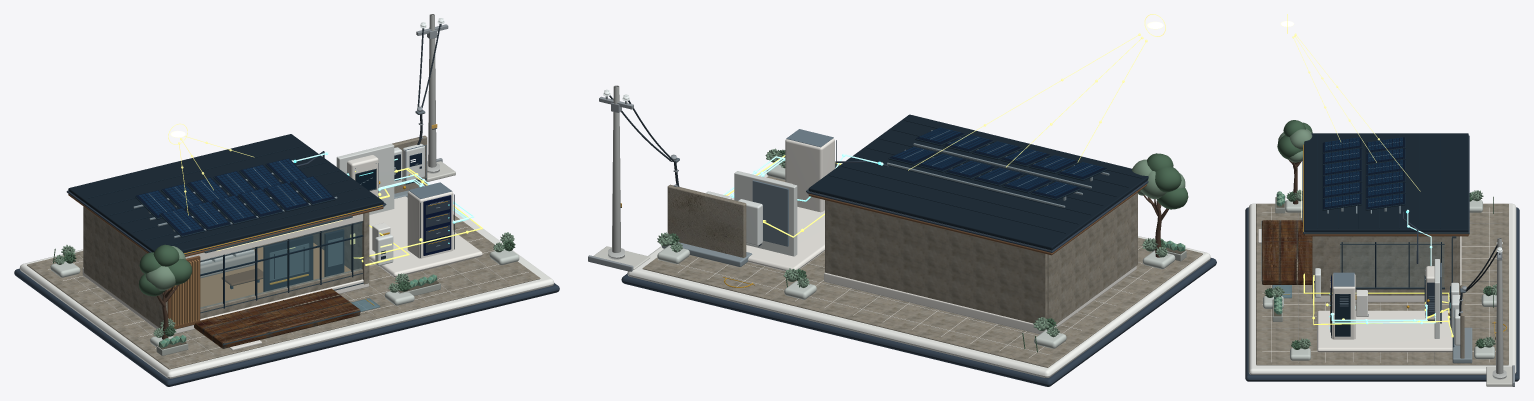
The model's file is pts-technical-v05.glb.
3 renders of one model, left to right at view 1: azimuth 30°, elevation 25°; view 2: azimuth 150°, elevation 25°; view 3: azimuth 270°, elevation 25°, orthographic. The views are drawn at different scales.
Visible parts, largest first — view 1: ROOF / Standing Seam Zinc, STAGE / Landscape Field, HOUSE / Front Glazing, STAGE / Architectural Limestone, LANDSCAPE / Floating Terrace, STAGE / Deep Shadow Layer, HOUSE / Left Structural Wall, TECH / Limestone Service Pod, ROOM / Priority load separation panel, LANDSCAPE_TREE / West courtyard specimen canopy, INTERIOR / White Oak Floor, HOUSE / Front Low Solid (+28 smaller); view 2: ROOF / Standing Seam Zinc, HOUSE / Rear Structural Wall, STAGE / Landscape Field, STAGE / Architectural Limestone, HOUSE / Left Structural Wall, STAGE / Deep Shadow Layer, UTILITY_SERVICE / Masonry service backing, HOUSE / Main Limestone Floor, BATTERY / Ceramic Storage Tower, TECH / Limestone Service Pod, LANDSCAPE_TREE / West courtyard specimen canopy, DETAIL / Inverter wall standoff plate (+8 smaller); view 3: STAGE / Landscape Field, ROOF / Standing Seam Zinc, HOUSE / Right Structural Wall, STAGE / Architectural Limestone, TECH / Limestone Service Pod, HOUSE / Right Window, LANDSCAPE / Floating Terrace, STAGE / Deep Shadow Layer, LANDSCAPE_TREE / West courtyard specimen canopy, GRID_SOURCE / Low-voltage concrete utility pole, HOUSE / Main Limestone Floor, BATTERY / Ceramic Storage Tower (+40 smaller).
Part boxes in pixels (bbox=[...]): ROOF / Standing Seam Zinc: bbox=[68, 134, 383, 252]; STAGE / Landscape Field: bbox=[27, 214, 540, 369]; HOUSE / Front Glazing: bbox=[200, 221, 362, 308]; STAGE / Architectural Limestone: bbox=[19, 208, 554, 378]; LANDSCAPE / Floating Terrace: bbox=[194, 288, 360, 348]; STAGE / Deep Shadow Layer: bbox=[14, 268, 559, 386]; HOUSE / Left Structural Wall: bbox=[84, 207, 167, 328]; TECH / Limestone Service Pod: bbox=[369, 196, 482, 277]; ROOM / Priority load separation panel: bbox=[263, 235, 313, 291]; LANDSCAPE_TREE / West courtyard specimen canopy: bbox=[138, 244, 192, 296]; INTERIOR / White Oak Floor: bbox=[200, 235, 350, 306]; HOUSE / Front Low Solid: bbox=[200, 268, 362, 318]; ROOF / Standing Seam Zinc: bbox=[808, 114, 1148, 250]; HOUSE / Rear Structural Wall: bbox=[825, 200, 1047, 323]; STAGE / Landscape Field: bbox=[642, 164, 1202, 367]; STAGE / Architectural Limestone: bbox=[627, 163, 1210, 377]; HOUSE / Left Structural Wall: bbox=[1047, 192, 1137, 324]; STAGE / Deep Shadow Layer: bbox=[621, 258, 1216, 386]; UTILITY_SERVICE / Masonry service backing: bbox=[667, 184, 746, 257]; HOUSE / Main Limestone Floor: bbox=[824, 266, 1136, 334]; BATTERY / Ceramic Storage Tower: bbox=[785, 138, 834, 212]; TECH / Limestone Service Pod: bbox=[746, 207, 824, 271]; LANDSCAPE_TREE / West courtyard specimen canopy: bbox=[1132, 153, 1188, 209]; DETAIL / Inverter wall standoff plate: bbox=[752, 180, 788, 246]; STAGE / Landscape Field: bbox=[1256, 203, 1508, 365]; ROOF / Standing Seam Zinc: bbox=[1304, 133, 1468, 232]; HOUSE / Right Structural Wall: bbox=[1312, 236, 1457, 298]; STAGE / Architectural Limestone: bbox=[1248, 203, 1516, 374]; TECH / Limestone Service Pod: bbox=[1317, 310, 1452, 352]; HOUSE / Right Window: bbox=[1340, 242, 1443, 286]; LANDSCAPE / Floating Terrace: bbox=[1262, 220, 1312, 284]; STAGE / Deep Shadow Layer: bbox=[1245, 207, 1519, 381]; LANDSCAPE_TREE / West courtyard specimen canopy: bbox=[1277, 120, 1312, 162]; GRID_SOURCE / Low-voltage concrete utility pole: bbox=[1496, 238, 1503, 374]; HOUSE / Main Limestone Floor: bbox=[1312, 236, 1461, 302]; BATTERY / Ceramic Storage Tower: bbox=[1332, 274, 1355, 339].
Size of the model in its own units: 19.25 by 10.33 by 12.1.
Materials: 65 (4 with a texture image).
